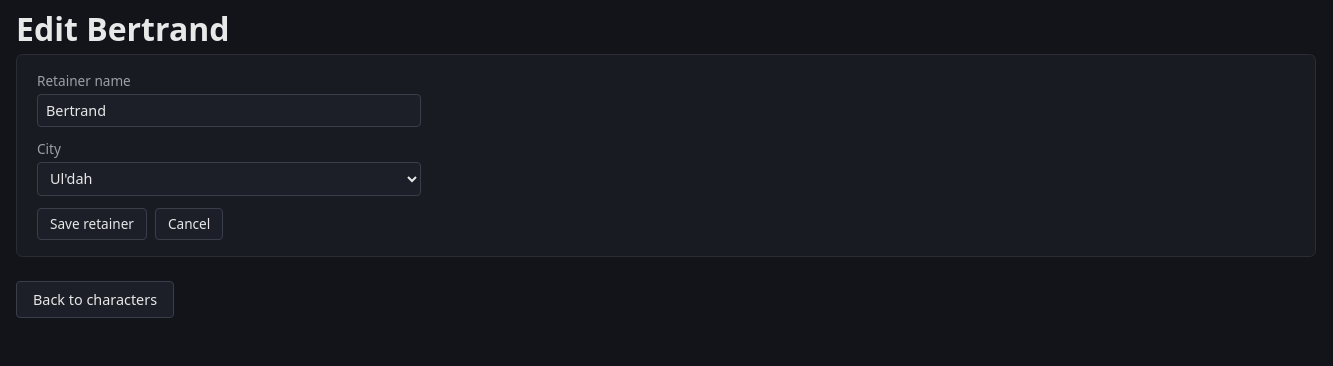
Scenario: EditRetainerContainer › should stay put explaining details the character wouldn't take, saving nothing
This screenshot has width=1333, height=366.
Step 1. Replace the text in the field labelled "Retainer name" with "Amarana" → (229, 110), box [37,94,421,127]
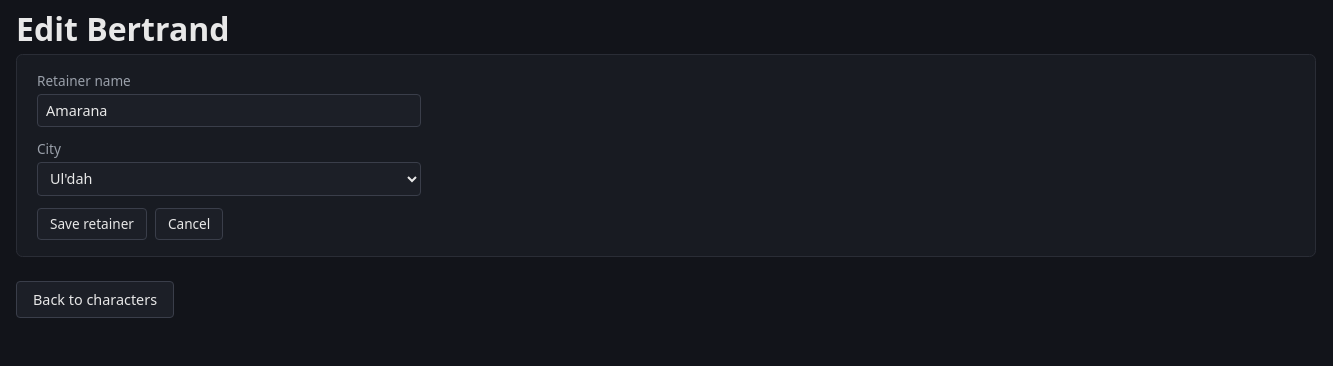
Step 2. Click the button "Save retainer" → (92, 224), box [37,208,147,240]
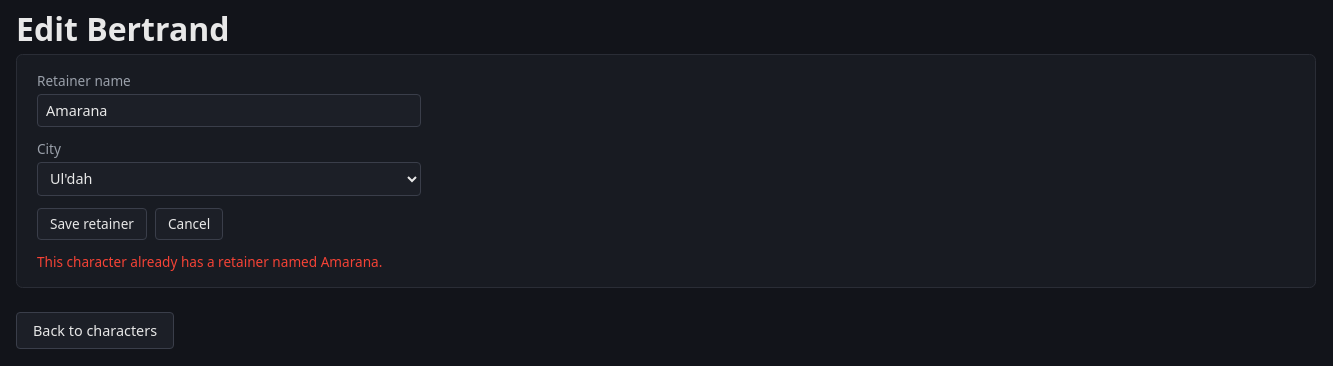
Result: the message reads "This character already has a retainer named Amarana." at [37,252,382,271]
